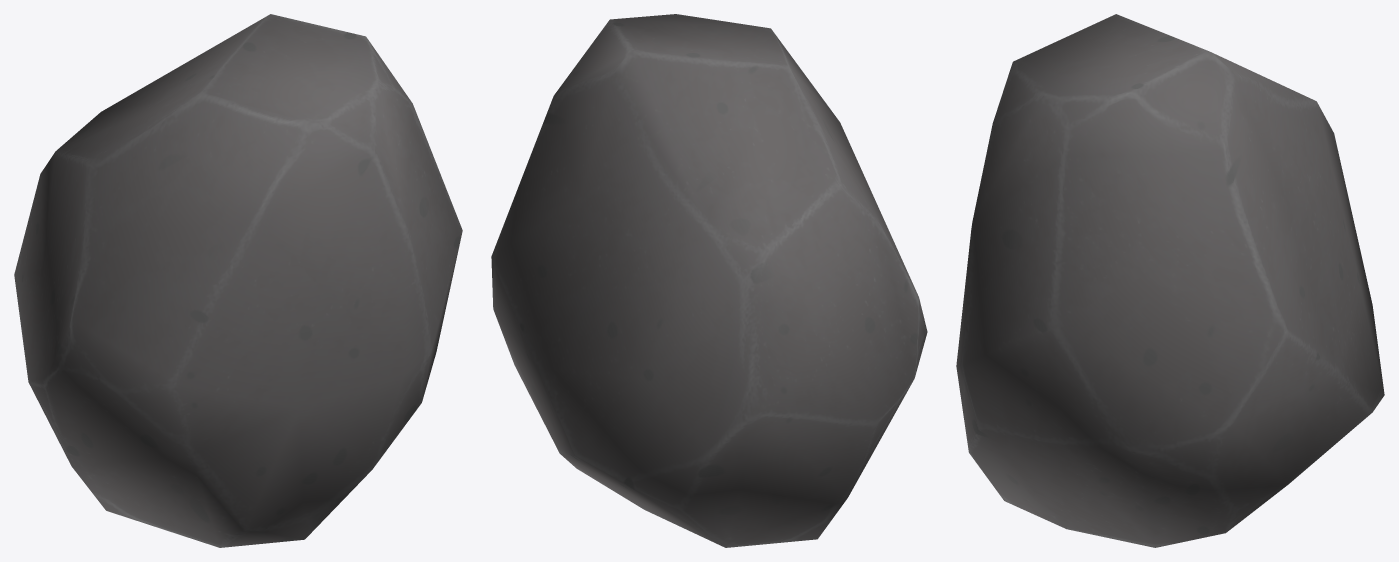
File: Rock03.fbx
The picture shows the model from 3 angles, left to right: view 1: azimuth 30°, elevation 25°; view 2: azimuth 150°, elevation 25°; view 3: azimuth 270°, elevation 25°; orthographic projection. The views are drawn at different scales.
Visible parts, largest first — view 1: Rock03_LOD0; view 2: Rock03_LOD0; view 3: Rock03_LOD0.
Part boxes in pixels (x1=…): Rock03_LOD0: x1=14, y1=14, x2=462, y2=547; Rock03_LOD0: x1=491, y1=14, x2=927, y2=547; Rock03_LOD0: x1=956, y1=14, x2=1384, y2=547.
Size of what is drawn, in the model's own units: 1.56 by 1.37 by 1.73.
1 material, 1 textured.
